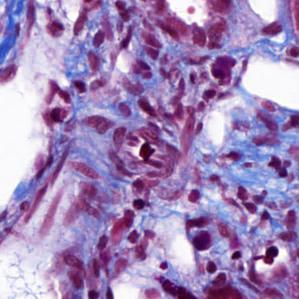inflammation: (204, 49, 241, 96), (131, 133, 160, 166), (252, 242, 285, 271), (114, 21, 142, 51)
